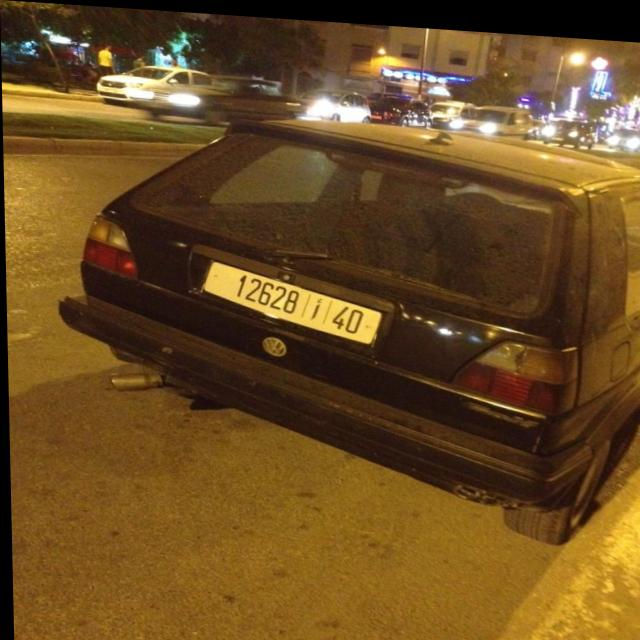License-Plate: (201, 259, 382, 339)
